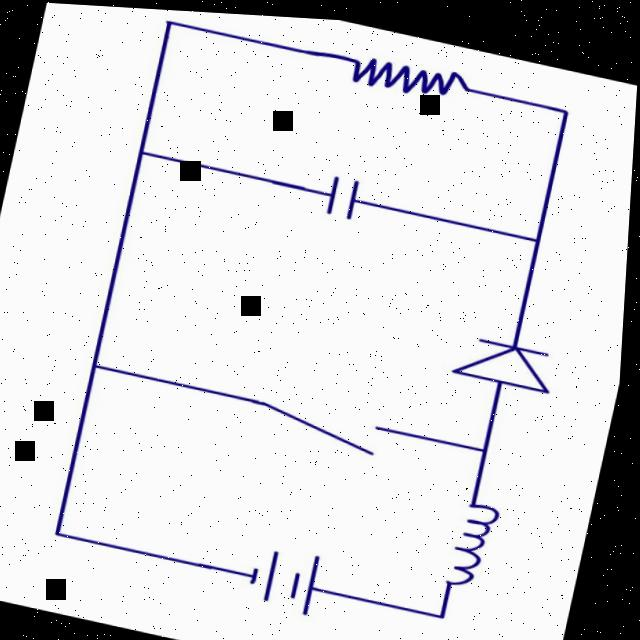capacitor: (300, 157, 396, 229)
diode: (451, 320, 566, 395)
inductor: (422, 474, 526, 602)
resistor: (318, 29, 506, 116)
source: (217, 527, 343, 618)
switch: (242, 379, 426, 466)
